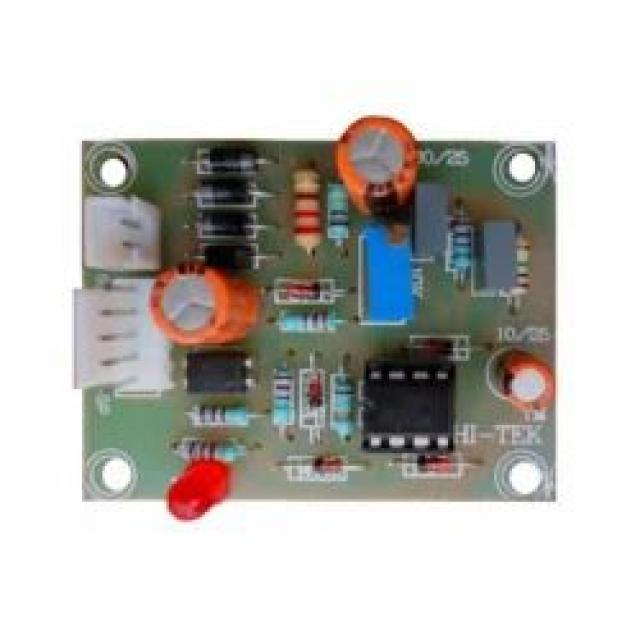pcb: (72, 128, 558, 509), (80, 189, 162, 279), (356, 220, 415, 325)
